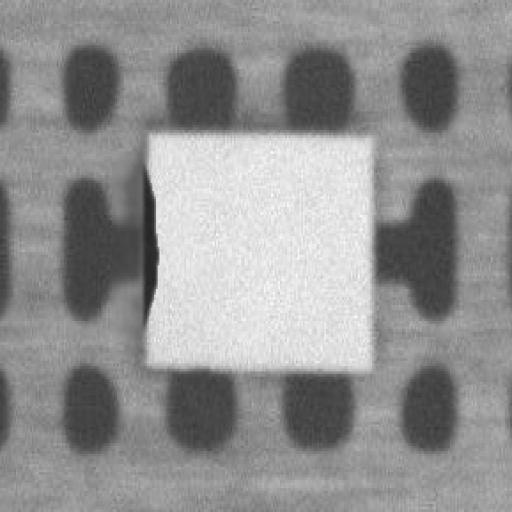DIE_BROKEN: (136, 159, 160, 324)
